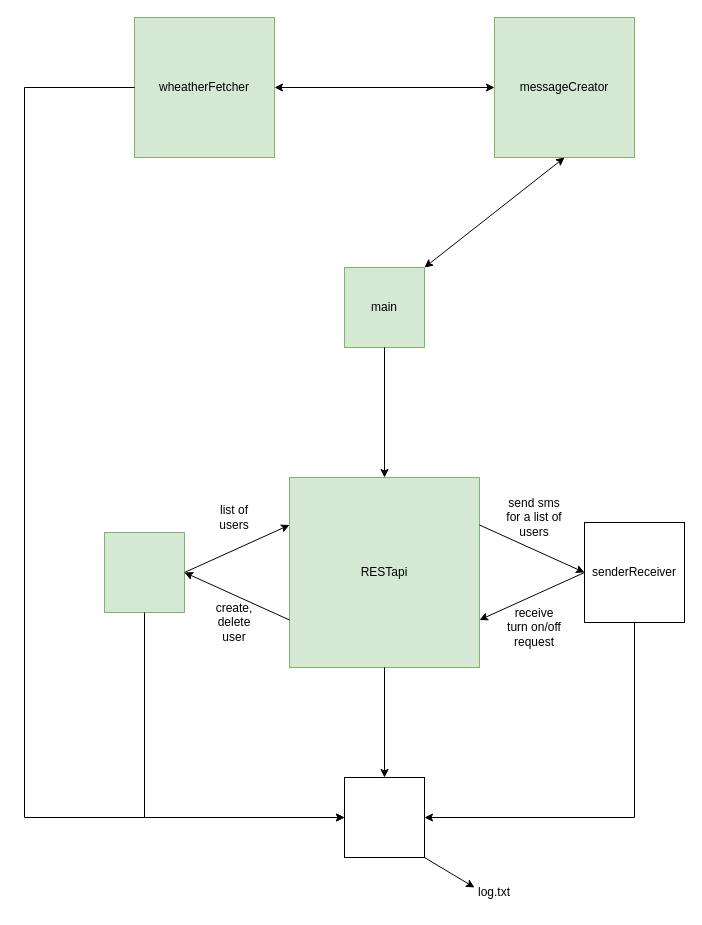
Image size: 702x925. Some labels were removed from this diagram. Here are the shapes that lost their labels. From the top down, the box of each, then its label:
(104, 532, 184, 612): DB
(344, 776, 424, 858): logger
